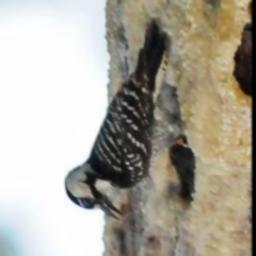Woodpecker: (62, 19, 188, 222)
